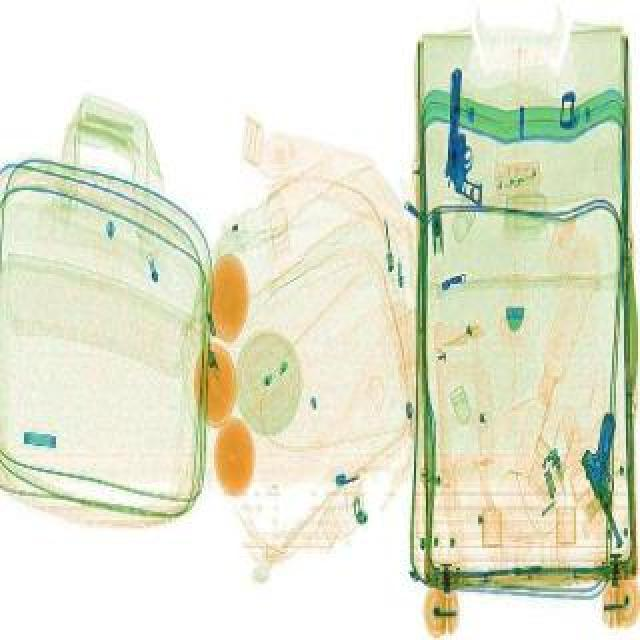gun: (576, 426, 640, 544), (448, 66, 488, 202)
